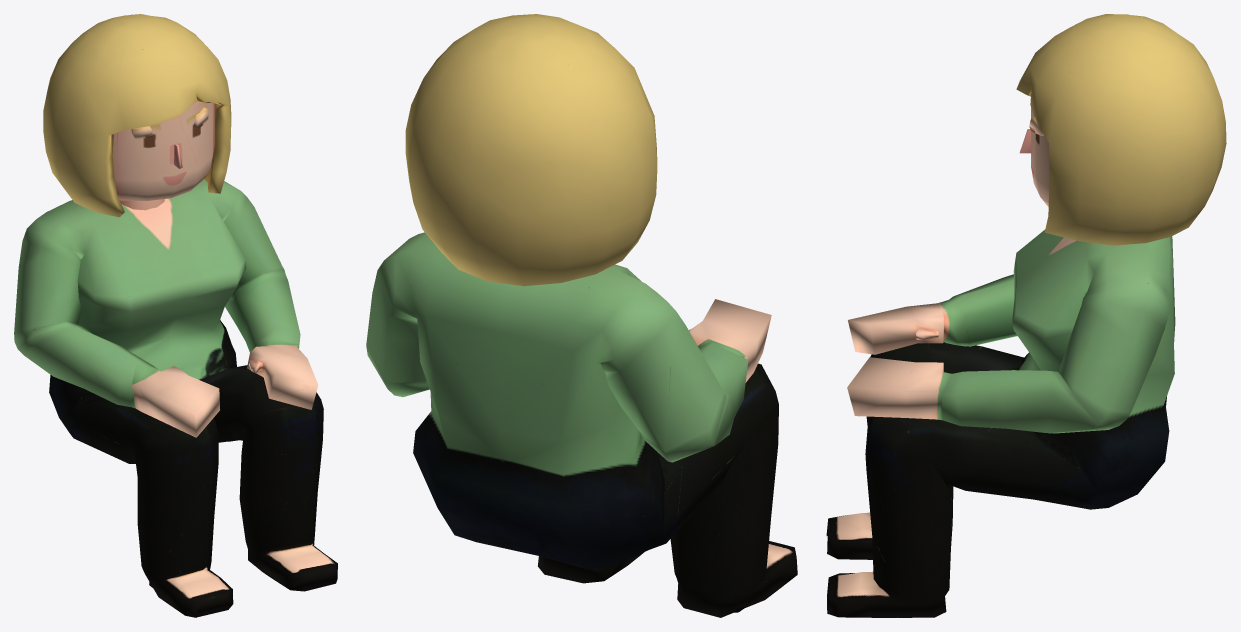
File: pax_w2.glb
3 views of the same model, side by side, from view 1: azimuth 30°, elevation 25°; view 2: azimuth 150°, elevation 25°; view 3: azimuth 270°, elevation 25° (orthographic). The views are drawn at different scales.
Parts seen in each view (by area): view 1: geometry_0; view 2: geometry_0; view 3: geometry_0.
Part boxes in pixels (left/top/right/bottom): geometry_0: left=14, top=14, right=337, bottom=617; geometry_0: left=366, top=14, right=797, bottom=617; geometry_0: left=826, top=14, right=1226, bottom=617.
Bounding box in the file's own units: 0.5603 × 1 × 0.6592.
Materials: 1 (1 with a texture image).
